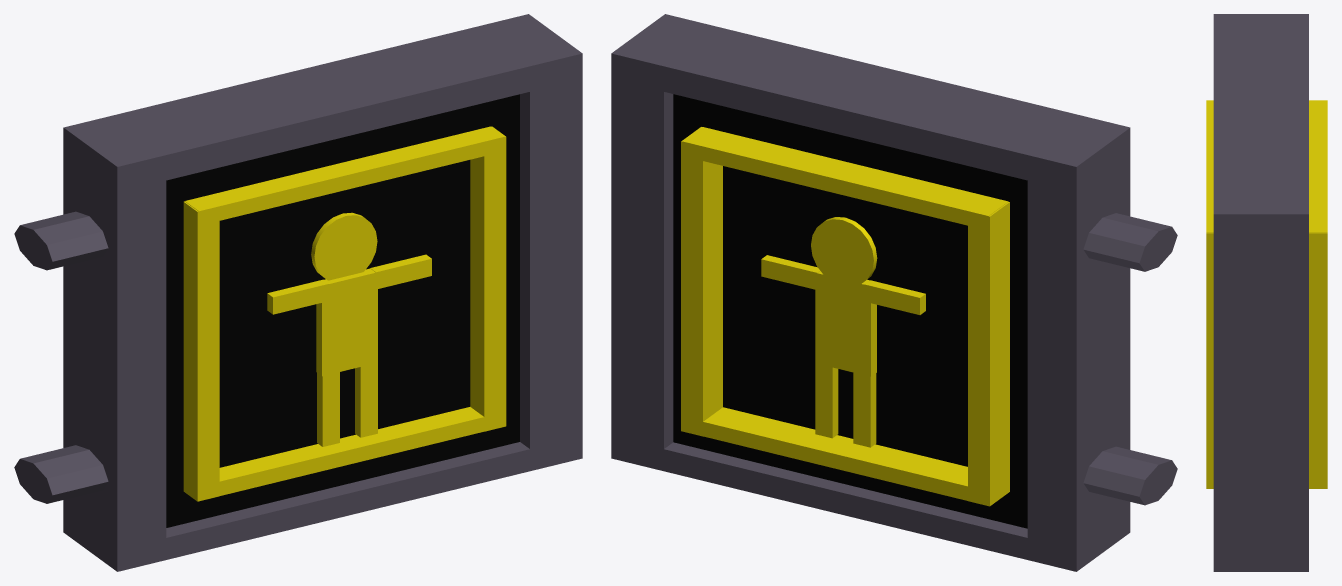
File: Neon_person_square.fbx
3 renders of one model, left to right at view 1: azimuth 30°, elevation 25°; view 2: azimuth 150°, elevation 25°; view 3: azimuth 270°, elevation 25°, orthographic. The views are drawn at different scales.
Parts seen in each view (by area): view 1: NeonSign_Square4, Neon_person_square; view 2: NeonSign_Square4, Neon_person_square; view 3: NeonSign_Square4, Neon_person_square.
Part boxes in pixels (x1,y1,x2,y2): NeonSign_Square4: (14,14,582,571); Neon_person_square: (183,126,506,501); NeonSign_Square4: (611,14,1177,571); Neon_person_square: (681,127,1009,506); NeonSign_Square4: (1213,14,1308,571); Neon_person_square: (1206,100,1327,488).
Size of the model in its own units: 1.12 by 0.8317 by 0.2554.
